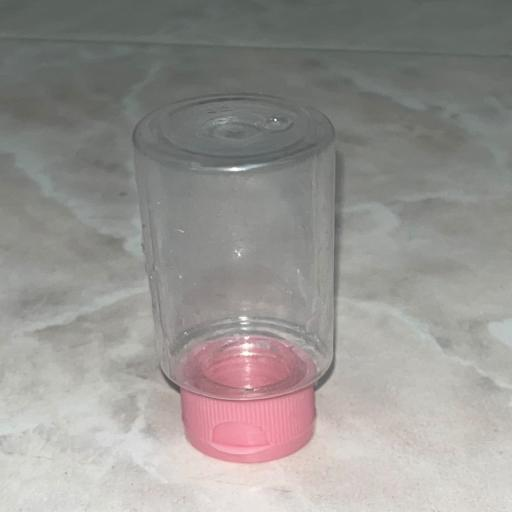PET: (80, 56, 439, 490)
